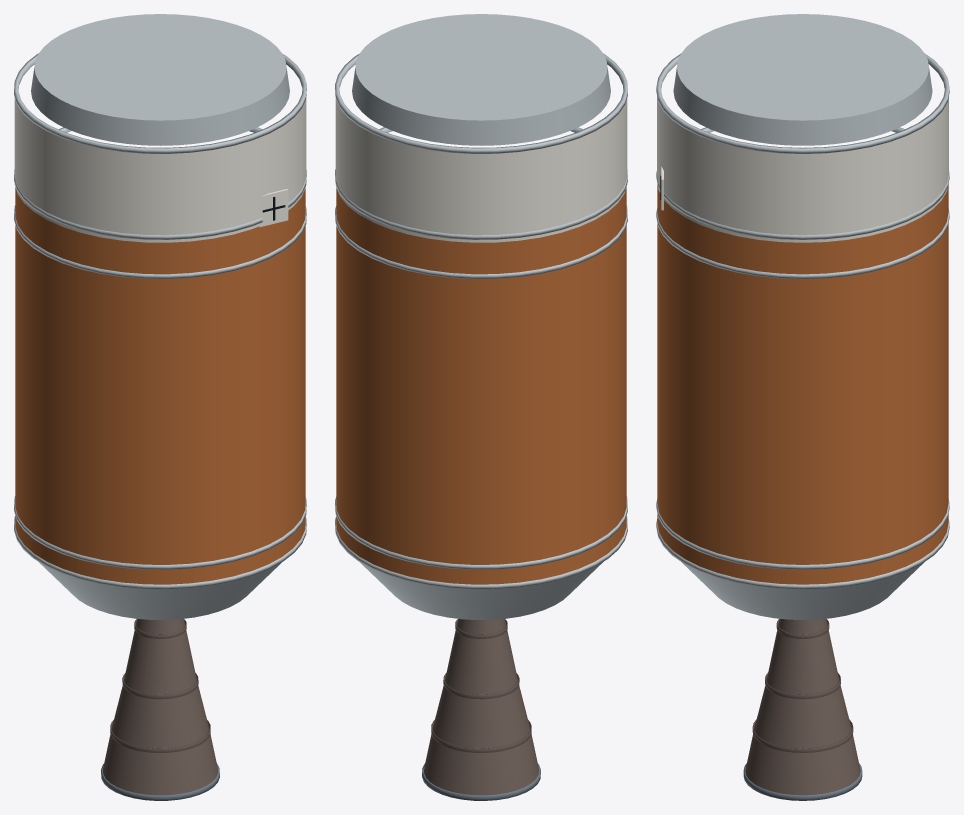
Rendered from icps.glb.
3 renders of one model, left to right at view 1: azimuth 30°, elevation 25°; view 2: azimuth 150°, elevation 25°; view 3: azimuth 270°, elevation 25°, orthographic.
Visible parts, largest first — view 1: icps.mesh_Spray-on_insulation, icps.mesh_Satin_aluminum, icps.mesh_Warm_white_enamel, icps.rl10.bell.mesh_Heat-stained_alloy, icps.proximity_target.mesh_Warm_white_enamel, icps.rl10.bell.mesh_Machined_steel; view 2: icps.mesh_Spray-on_insulation, icps.mesh_Satin_aluminum, icps.mesh_Warm_white_enamel, icps.rl10.bell.mesh_Heat-stained_alloy, icps.rl10.bell.mesh_Machined_steel; view 3: icps.mesh_Spray-on_insulation, icps.mesh_Satin_aluminum, icps.mesh_Warm_white_enamel, icps.rl10.bell.mesh_Heat-stained_alloy, icps.rl10.bell.mesh_Machined_steel.
Part boxes in pixels (bbox=[...]): icps.mesh_Spray-on_insulation: bbox=[15, 187, 305, 584]; icps.mesh_Satin_aluminum: bbox=[14, 14, 306, 619]; icps.mesh_Warm_white_enamel: bbox=[14, 98, 306, 242]; icps.rl10.bell.mesh_Heat-stained_alloy: bbox=[103, 619, 217, 795]; icps.proximity_target.mesh_Warm_white_enamel: bbox=[259, 189, 288, 227]; icps.rl10.bell.mesh_Machined_steel: bbox=[101, 763, 219, 800]; icps.mesh_Spray-on_insulation: bbox=[336, 187, 626, 584]; icps.mesh_Satin_aluminum: bbox=[335, 14, 627, 619]; icps.mesh_Warm_white_enamel: bbox=[335, 98, 627, 242]; icps.rl10.bell.mesh_Heat-stained_alloy: bbox=[424, 619, 538, 795]; icps.rl10.bell.mesh_Machined_steel: bbox=[422, 763, 540, 800]; icps.mesh_Spray-on_insulation: bbox=[657, 184, 948, 584]; icps.mesh_Satin_aluminum: bbox=[656, 14, 949, 619]; icps.mesh_Warm_white_enamel: bbox=[657, 97, 948, 242]; icps.rl10.bell.mesh_Heat-stained_alloy: bbox=[745, 618, 860, 795]; icps.rl10.bell.mesh_Machined_steel: bbox=[743, 763, 862, 800].
Size of the model in its own units: 5.14 by 13.7 by 5.14.
